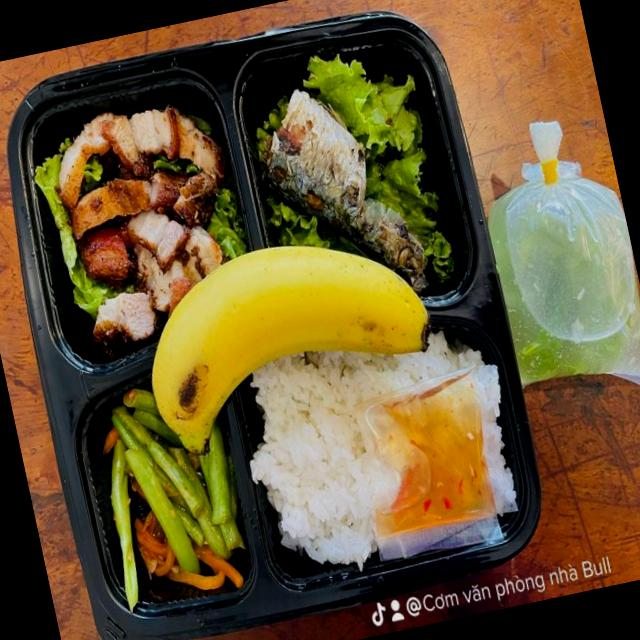ca chien: (265, 89, 425, 289)
chuoi: (151, 246, 428, 448)
dau que: (109, 388, 244, 607)
nuoc mam: (366, 371, 495, 548)
rau: (302, 53, 453, 282), (265, 194, 360, 251)
thit chien: (57, 106, 224, 348)
